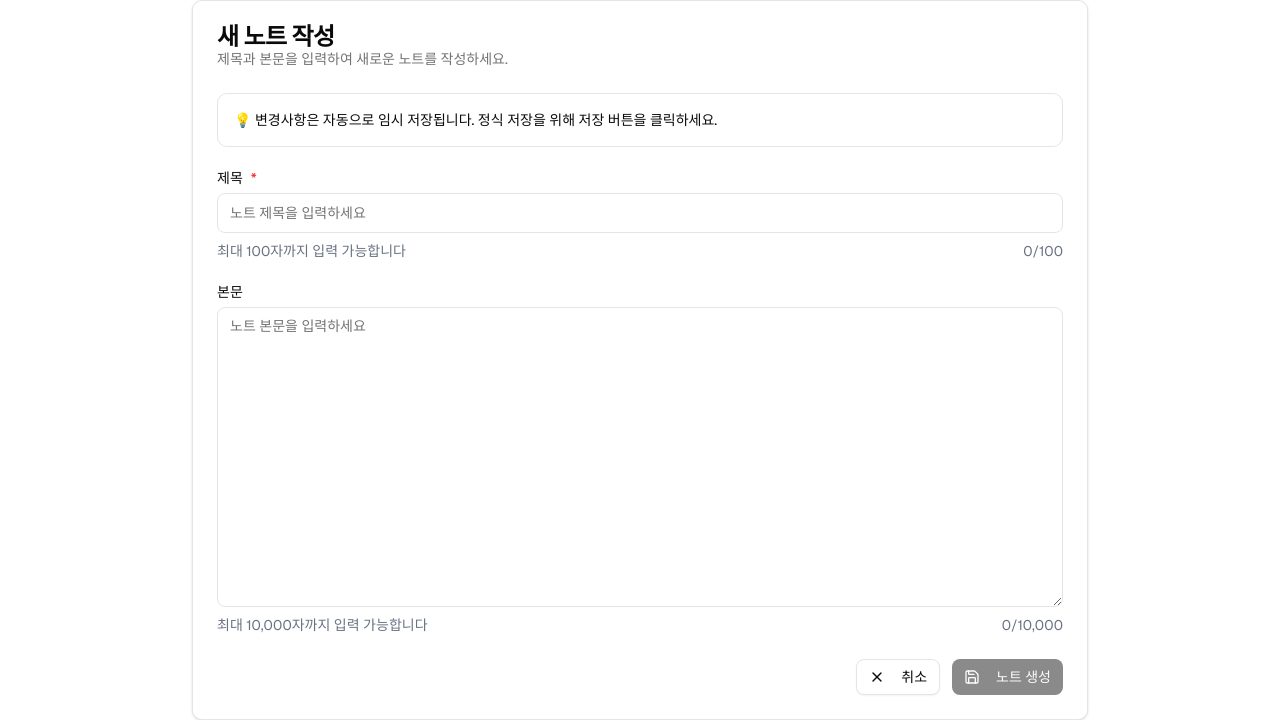
NoteForm › should show error message on submit failure
Type "Test Title" into the field labelled "제목 *" at (640, 213), box [217,193,1063,233]
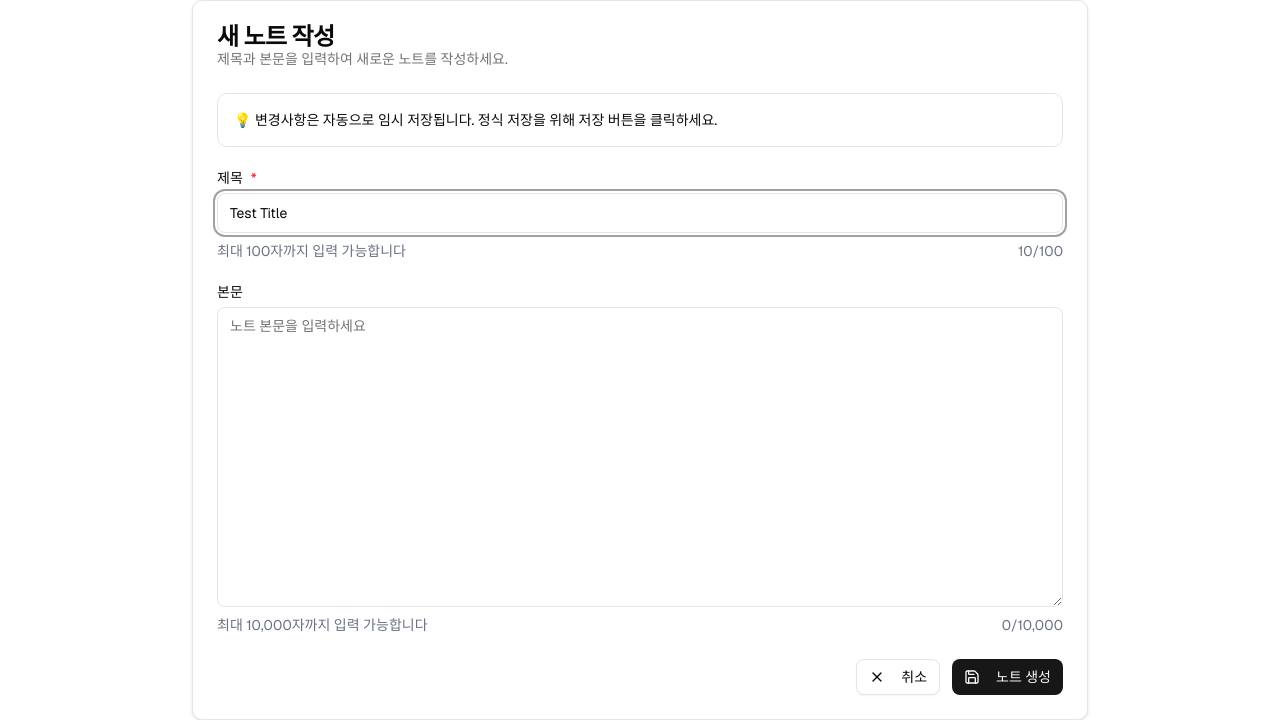
Click the button "노트 생성" at (1008, 677), box [952,659,1063,695]
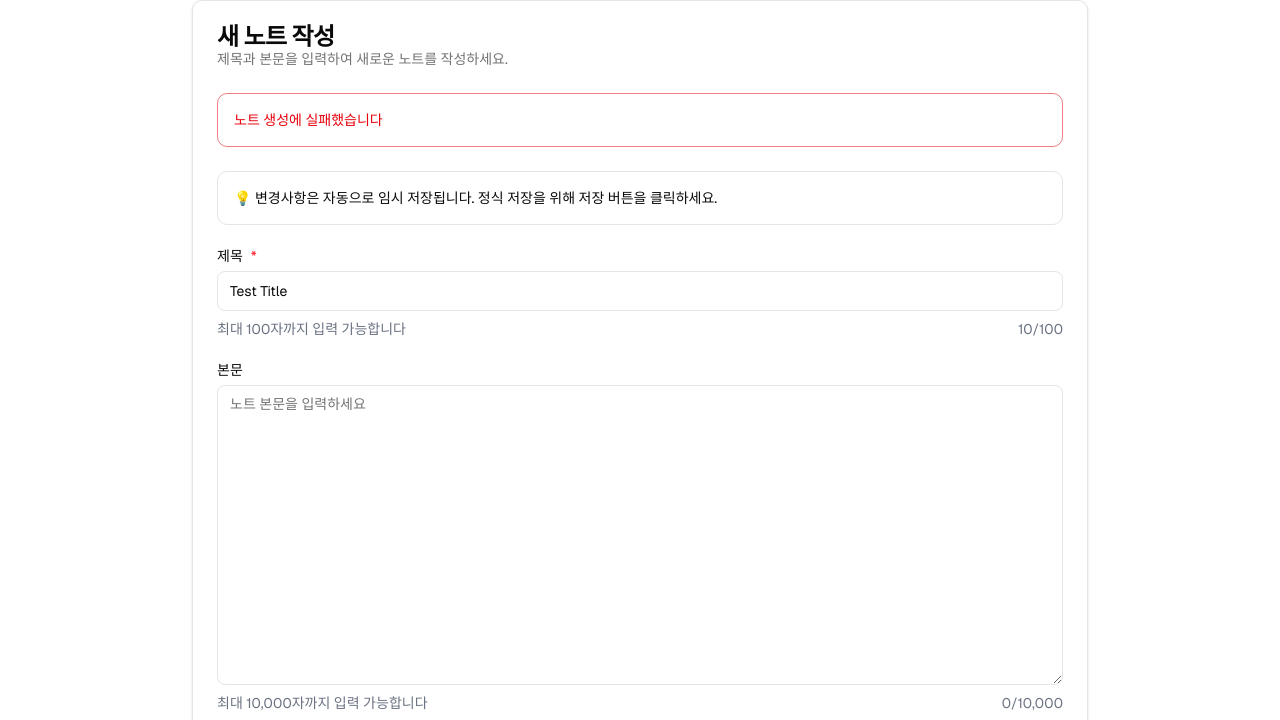
Now the text "노트 생성에 실패했습니다" is shown, box [234,111,383,129]
